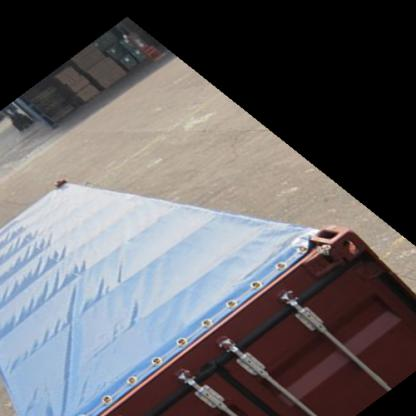Damage: (316, 235, 376, 278)
